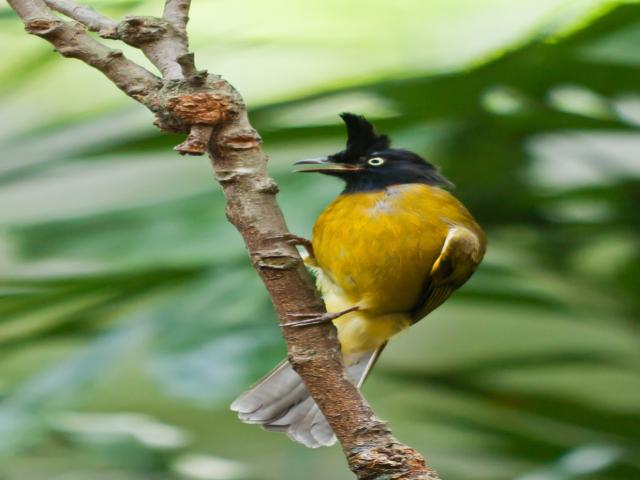Bird: (222, 108, 497, 450)
